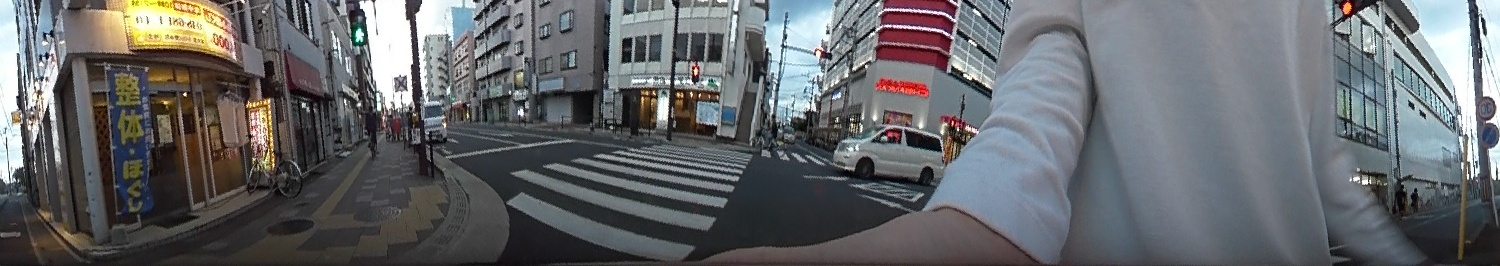difficult_person: (360, 101, 382, 153), (1391, 182, 1409, 217), (766, 111, 780, 153), (1410, 185, 1422, 213)
